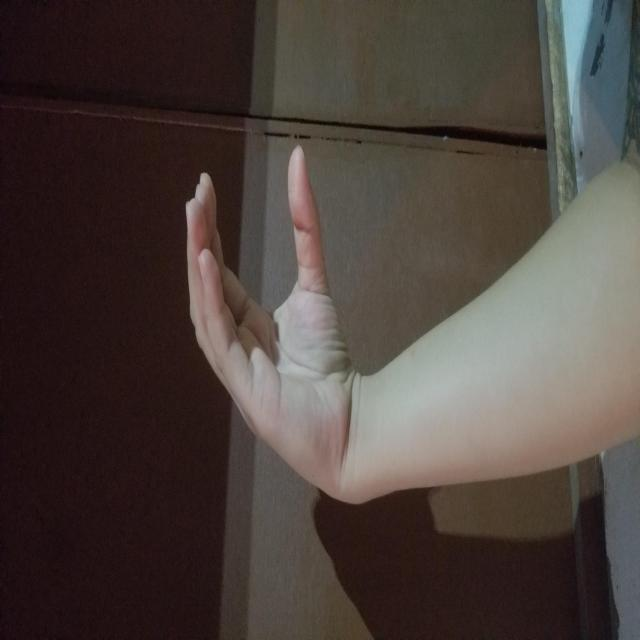C: (155, 186, 496, 349)
